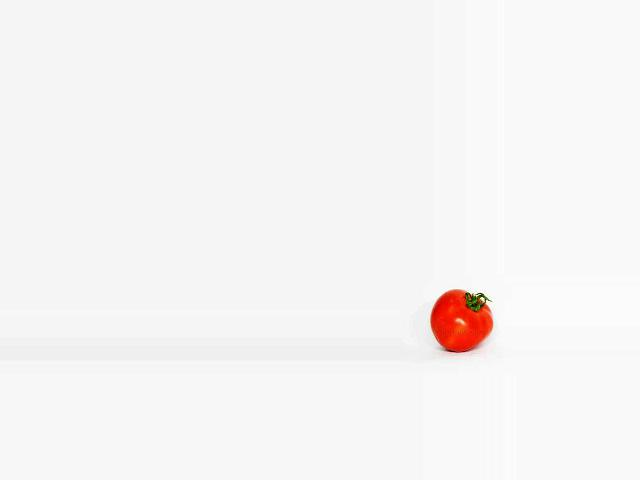tomato: (430, 288, 492, 352)
